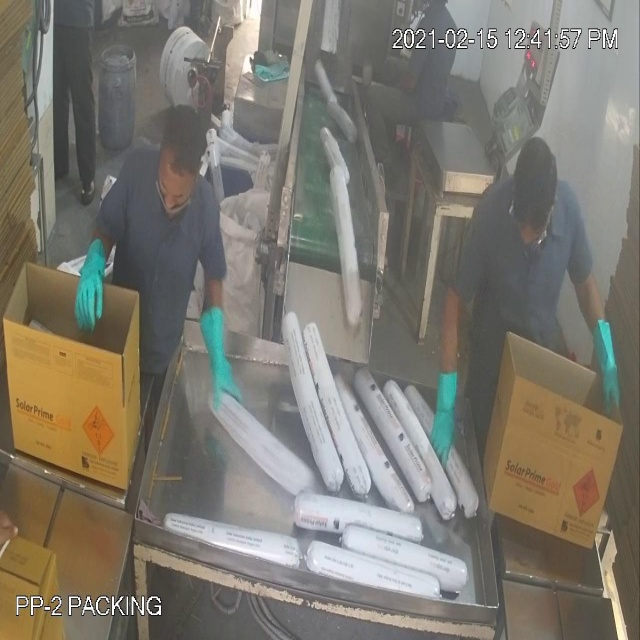Guantes: (198, 292, 250, 436), (422, 347, 473, 482), (62, 224, 114, 353), (586, 304, 627, 428)
